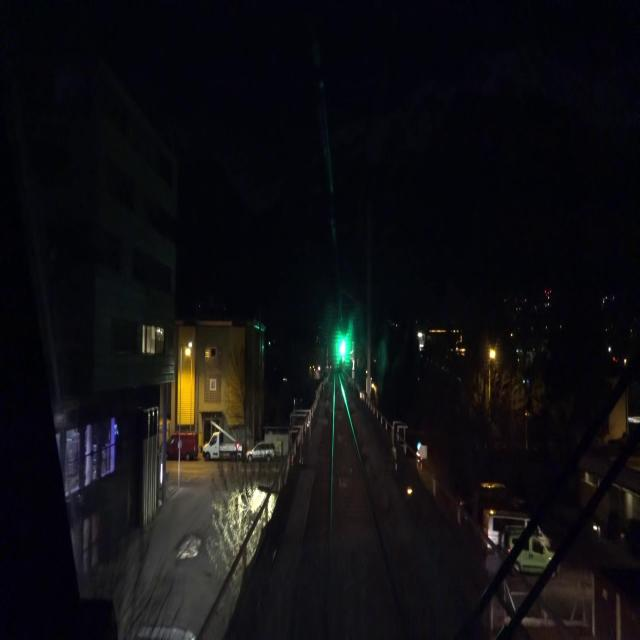rail-track: (332, 373, 401, 639)
